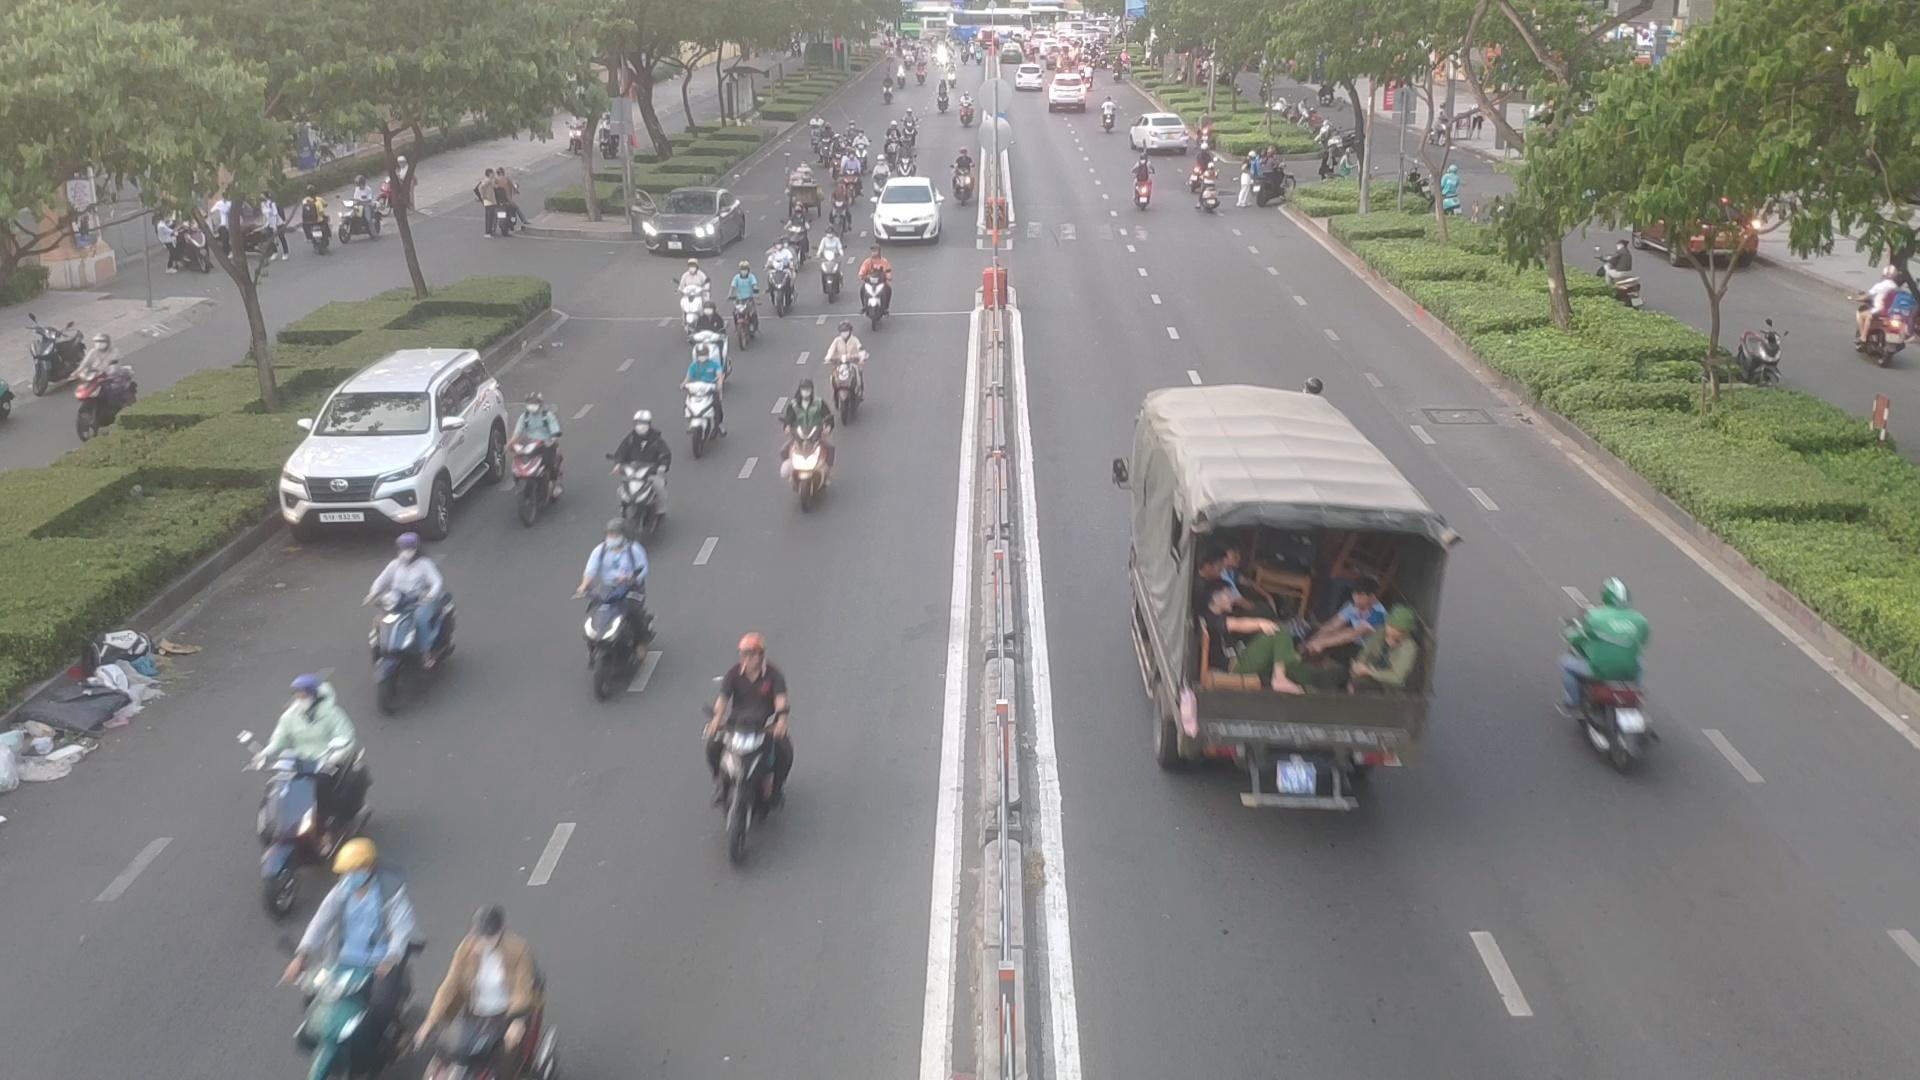car: (1116, 381, 1433, 836), (272, 345, 513, 539), (633, 190, 750, 258), (868, 179, 942, 247), (1134, 113, 1196, 156)
motorbike: (698, 626, 810, 868), (295, 853, 413, 1076), (1557, 560, 1669, 785), (251, 678, 377, 874), (423, 916, 547, 1080), (343, 527, 443, 720), (570, 505, 644, 694), (495, 388, 551, 520), (822, 320, 881, 429), (680, 347, 733, 462), (778, 378, 829, 484), (620, 400, 659, 535), (858, 247, 891, 328), (765, 237, 795, 324), (814, 225, 843, 306), (669, 262, 703, 328), (690, 301, 729, 356), (731, 265, 760, 340), (787, 202, 811, 255), (1197, 156, 1218, 214), (1133, 154, 1153, 214), (828, 186, 847, 235), (845, 152, 862, 202), (953, 148, 971, 196), (872, 156, 887, 198), (818, 123, 832, 164), (887, 119, 902, 158), (899, 146, 913, 189), (857, 127, 870, 166), (831, 138, 843, 174)
